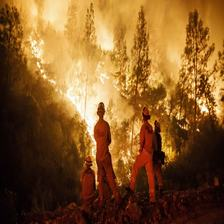fire: (20, 15, 96, 152), (109, 41, 221, 109)
